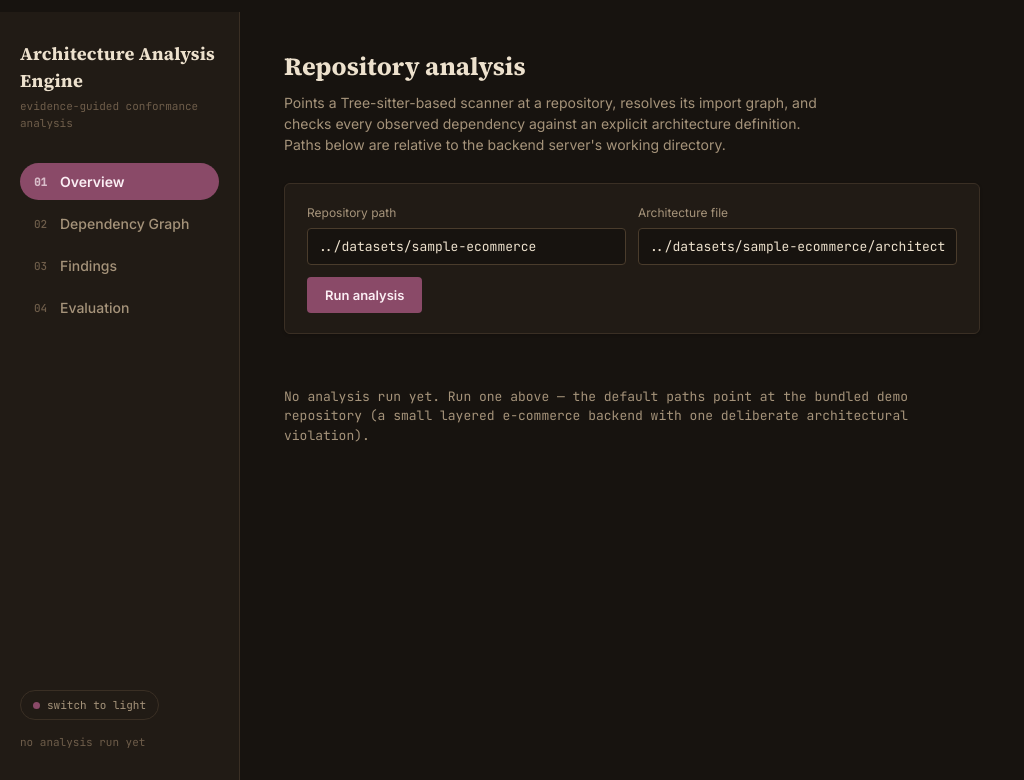
it: App — full user journey › analyze -> graph -> findings -> open violation -> run evidence-guided analysis
Click the button "Run analysis" at (365,294), box [307,276,422,312]
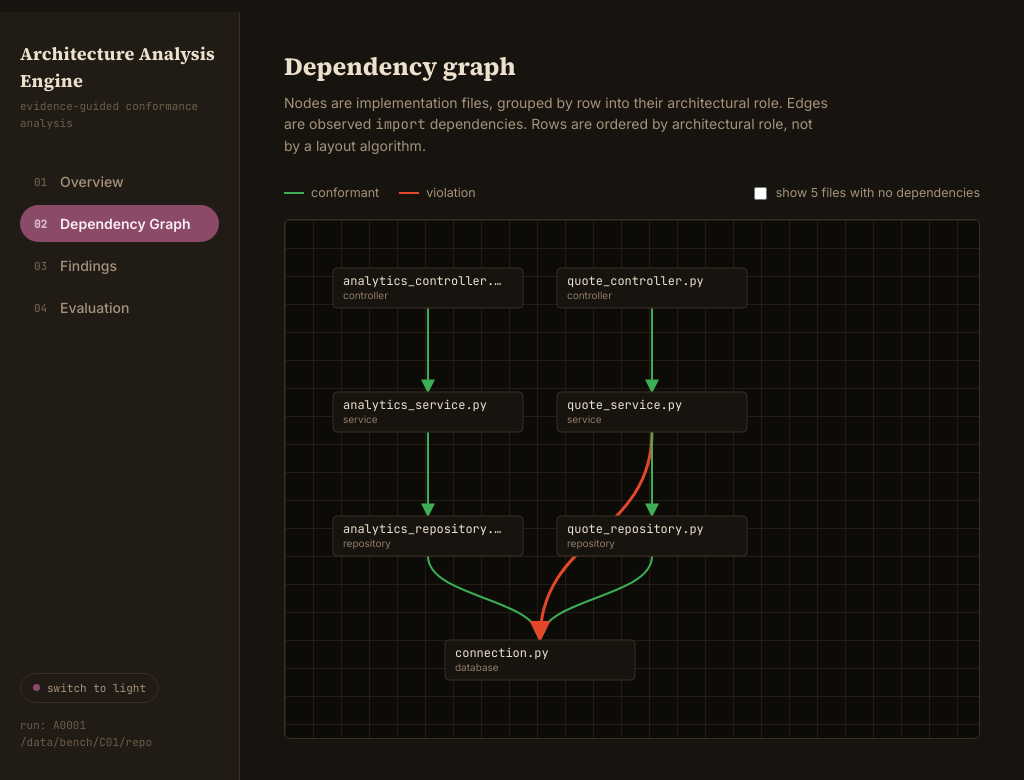
Now the heading "Dependency graph" is shown, box [284,49,516,83]
Click the button "03 Findings" at (120,266), box [20,247,219,284]
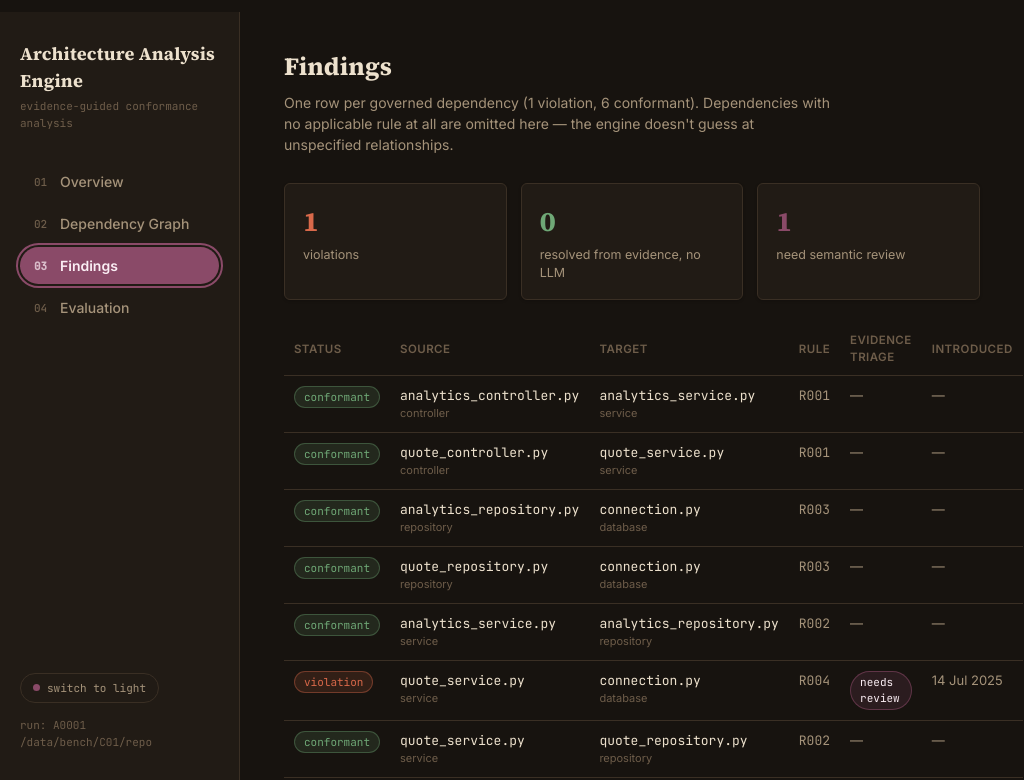
Click the row that starts with "violation" at (653,690), box [284,660,1023,720]
(page scrolled)
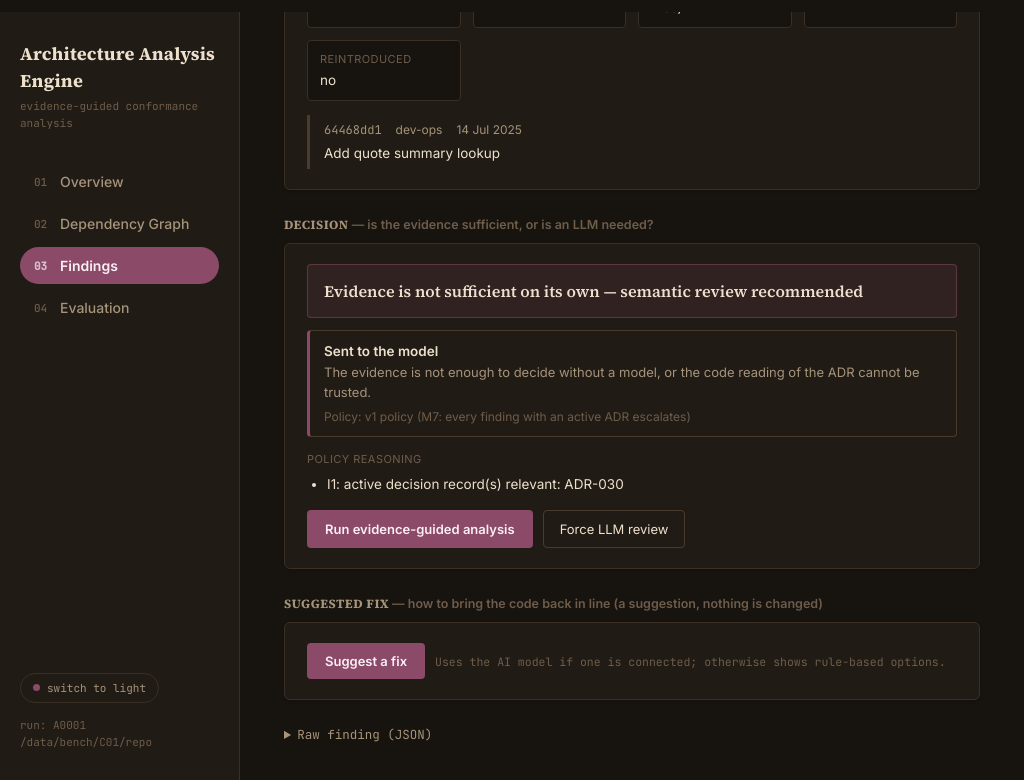
Click the button "Run evidence-guided analysis" at (420,529), box [307,510,533,548]
(page scrolled)
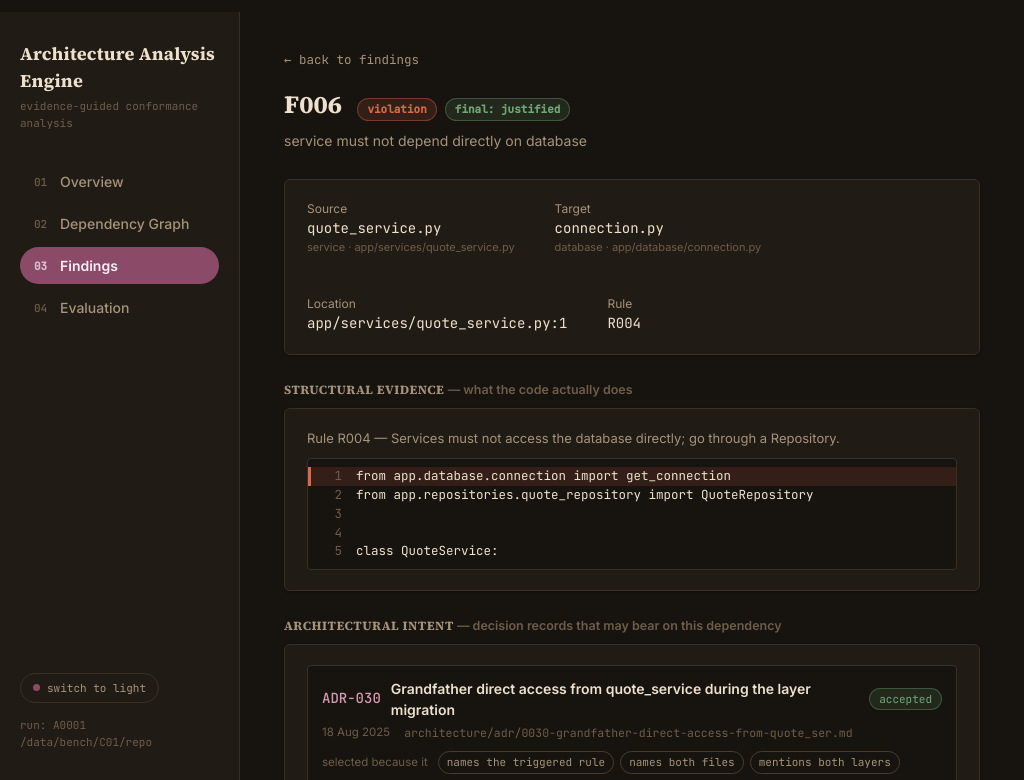
Now the text with test id "final-pill" reads "final: justified", box [445,98,570,120]
